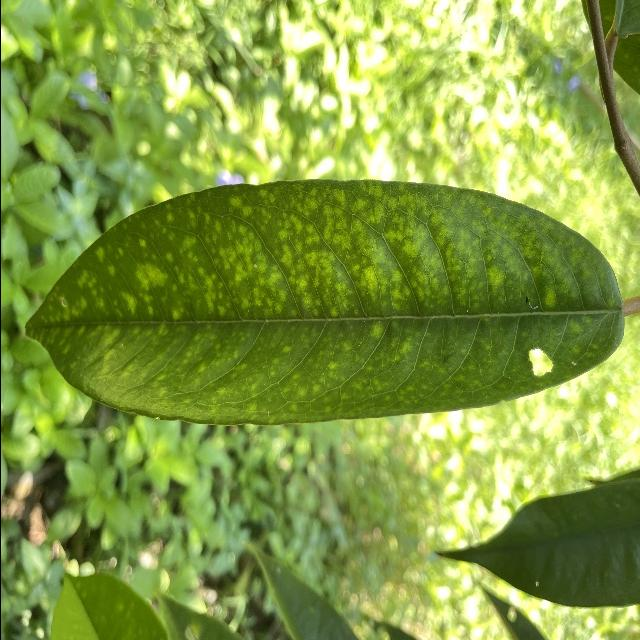Leaf Spot: (23, 167, 633, 433)
